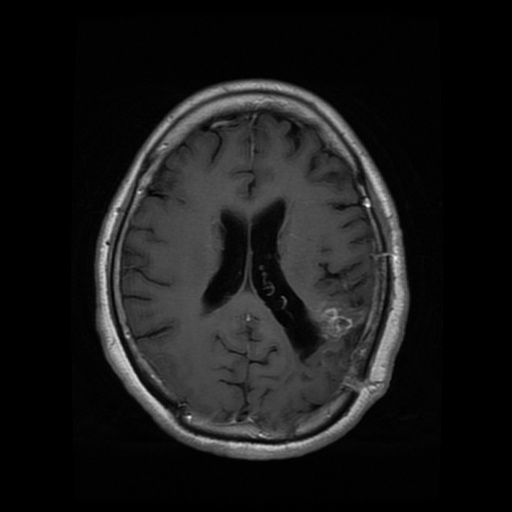glioma: (262, 285, 357, 364)
